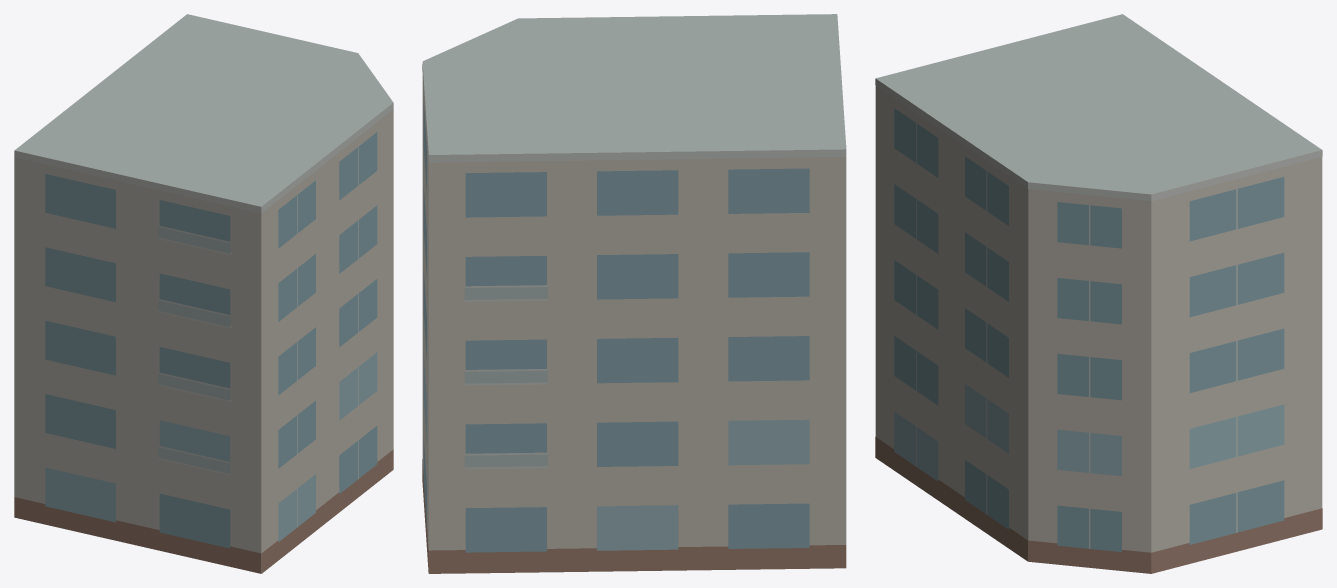
The model's file is survey-upis-33002903.glb.
The picture shows the model from 3 angles, left to right: view 1: azimuth 30°, elevation 25°; view 2: azimuth 150°, elevation 25°; view 3: azimuth 270°, elevation 25°; orthographic projection. The views are drawn at different scales.
Parts seen in each view (by area): view 1: survey-upis-33002903.tmp; view 2: survey-upis-33002903.tmp; view 3: survey-upis-33002903.tmp.
Boxes of the visible parts, x1=… form: survey-upis-33002903.tmp: x1=14, y1=14, x2=393, y2=573; survey-upis-33002903.tmp: x1=422, y1=14, x2=846, y2=573; survey-upis-33002903.tmp: x1=875, y1=14, x2=1322, y2=573.
Size of the model in its own units: 13.78 by 13.5 by 14.42.
